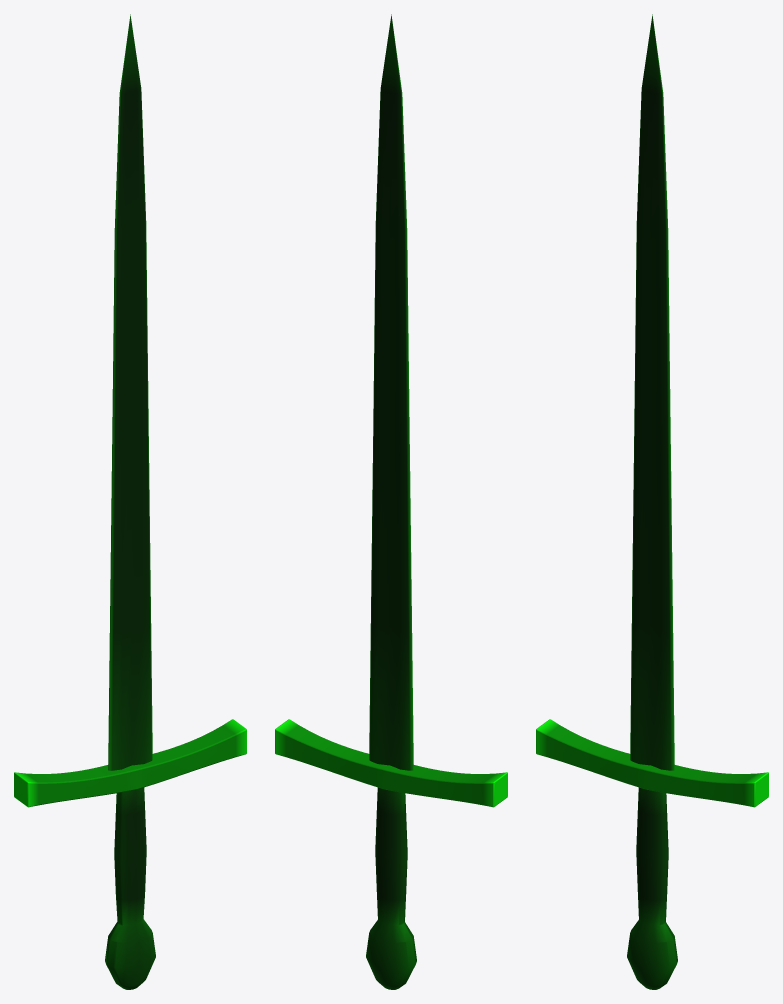
The model's file is WPN_AbyssalStraightSword.fbx.
3 renders of one model, left to right at view 1: azimuth 30°, elevation 25°; view 2: azimuth 150°, elevation 25°; view 3: azimuth 330°, elevation 25°, orthographic.
Parts seen in each view (by area): view 1: WPN_AbyssalStraightSword_LOD0; view 2: WPN_AbyssalStraightSword_LOD0; view 3: WPN_AbyssalStraightSword_LOD0.
Part boxes in pixels (<box>): WPN_AbyssalStraightSword_LOD0: <box>14,14,246,989</box>; WPN_AbyssalStraightSword_LOD0: <box>275,14,507,989</box>; WPN_AbyssalStraightSword_LOD0: <box>536,14,768,989</box>.
Size of what is drawn, in the model's own units: 27 by 115 by 4.
